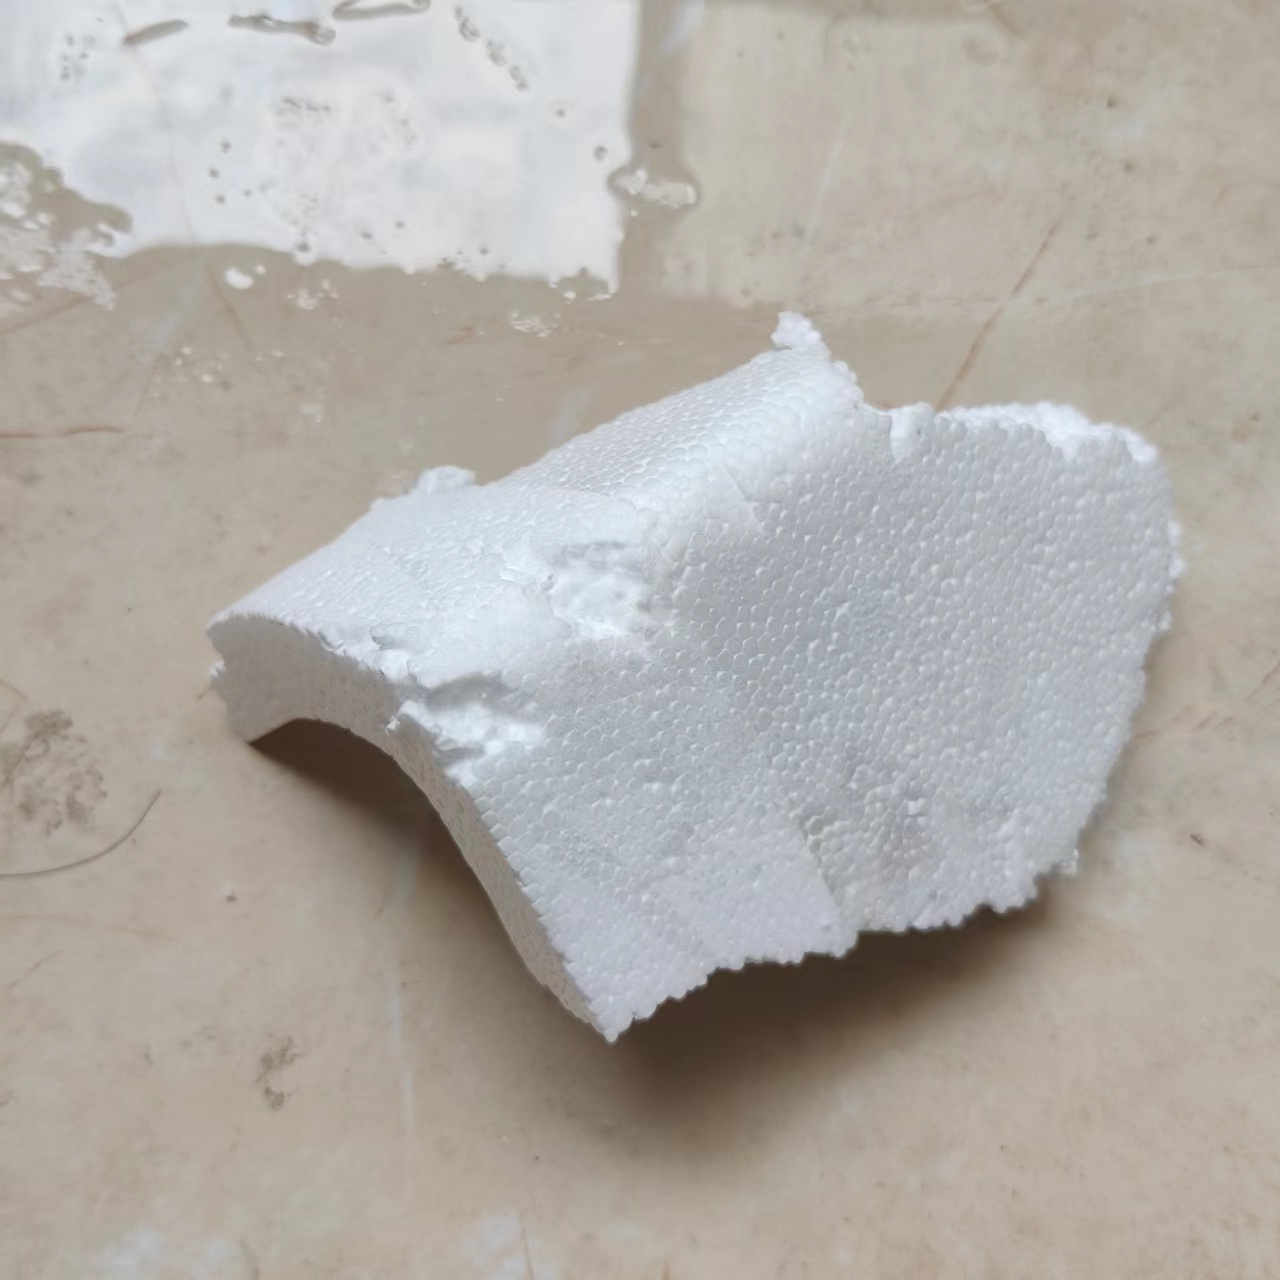5/可回收垃圾/泡沫: (207, 307, 1191, 1050)
